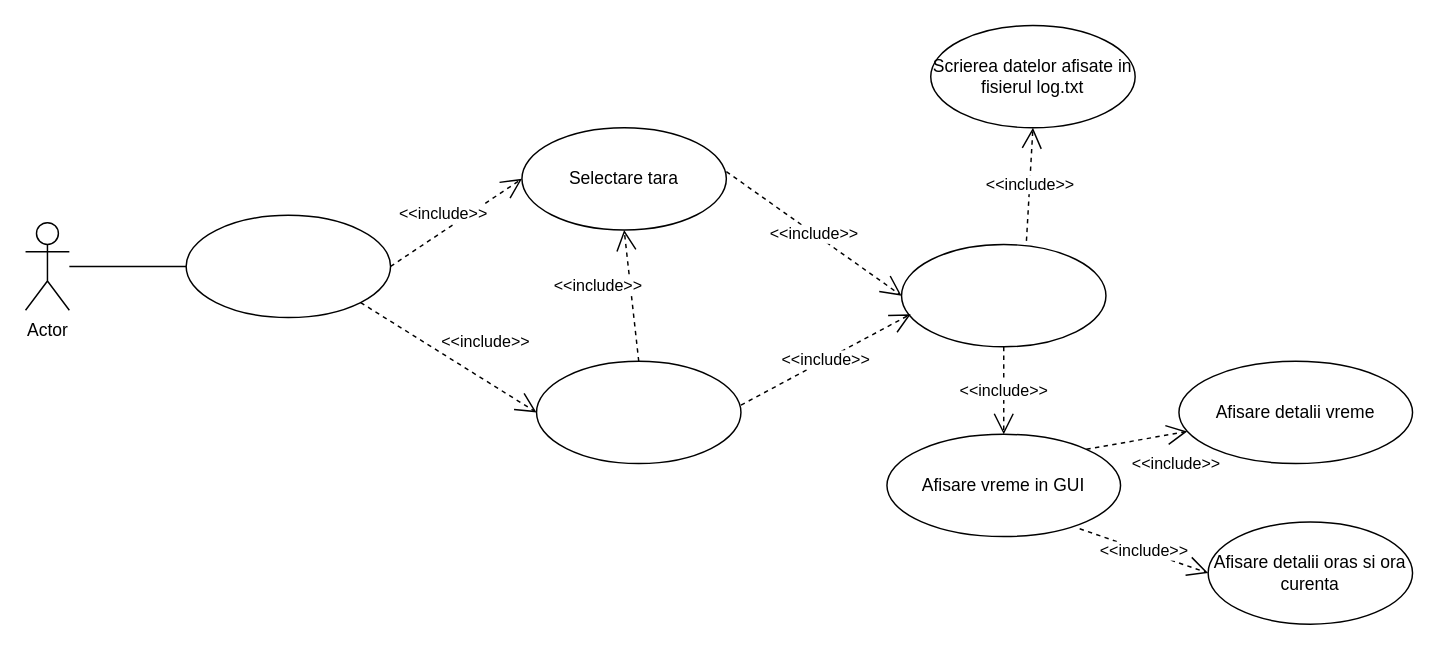
Image size: 1438x650. Some labels were removed from this diagram. Here are the shapes that lost their labels. From the top down, the centre of each, then its label:
At (x=288, y=266): "Selectare optiuni".
At (x=1003, y=295): "Date oras ales".
At (x=638, y=412): "Selectare oras".
